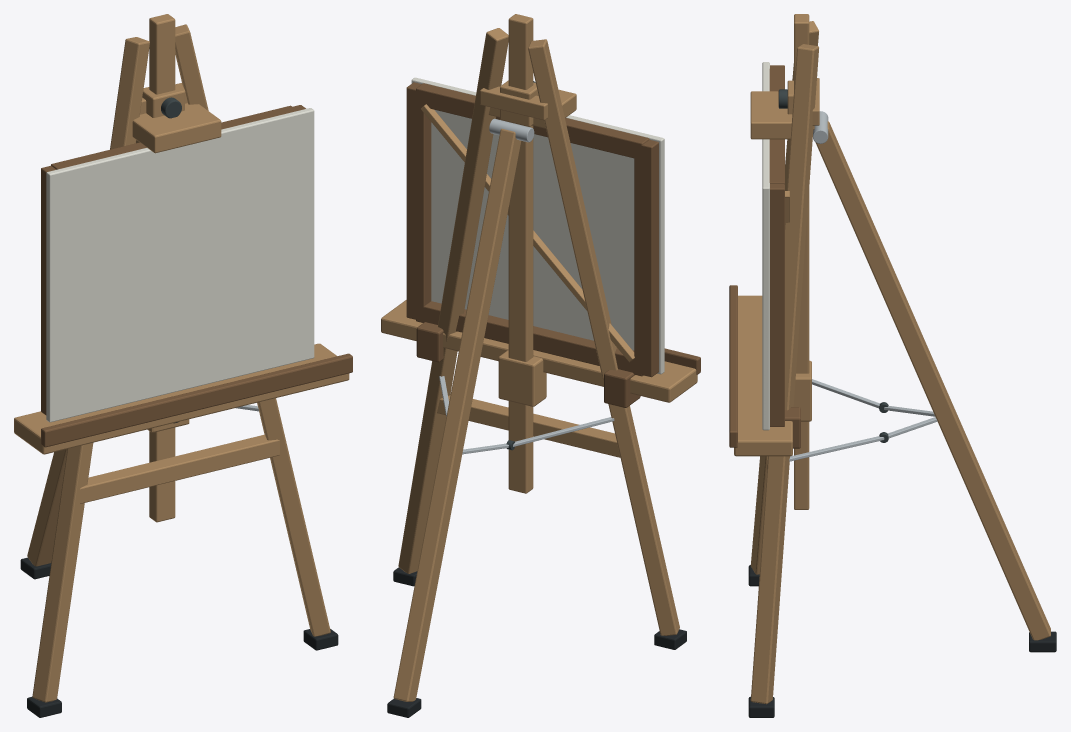
File: city-tripod-floor-easel.glb
3 views of the same model, side by side, from view 1: azimuth 30°, elevation 25°; view 2: azimuth 150°, elevation 25°; view 3: azimuth 270°, elevation 25° (orthographic). The views are drawn at different scales.
Parts seen in each view (by area): view 1: Assembly | Unmarked warm canvas or board, Assembly | Warm plain easel wood, Assembly | Dark wooden stiffeners, Assembly | Dark pads and cable rubber; view 2: Assembly | Warm plain easel wood, Assembly | Unmarked warm canvas or board, Assembly | Dark wooden stiffeners, Assembly | Satin workshop fittings, Assembly | Dark pads and cable rubber; view 3: Assembly | Warm plain easel wood, Assembly | Dark wooden stiffeners, Assembly | Unmarked warm canvas or board, Assembly | Satin workshop fittings, Assembly | Dark pads and cable rubber.
Part boxes in pixels (box(x1,y1,x2,y2)): Assembly | Unmarked warm canvas or board: box(46, 108, 314, 422); Assembly | Warm plain easel wood: box(14, 14, 349, 702); Assembly | Dark wooden stiffeners: box(41, 105, 352, 447); Assembly | Dark pads and cable rubber: box(20, 557, 338, 717); Assembly | Warm plain easel wood: box(381, 14, 697, 701); Assembly | Unmarked warm canvas or board: box(411, 77, 664, 374); Assembly | Dark wooden stiffeners: box(406, 82, 700, 407); Assembly | Satin workshop fittings: box(439, 118, 614, 454); Assembly | Dark pads and cable rubber: box(387, 567, 686, 717); Assembly | Warm plain easel wood: box(734, 14, 1050, 704); Assembly | Dark wooden stiffeners: box(729, 65, 800, 448); Assembly | Unmarked warm canvas or board: box(762, 62, 769, 430); Assembly | Satin workshop fittings: box(789, 111, 937, 461); Assembly | Dark pads and cable rubber: box(748, 565, 1056, 717).
Bounding box in the file's own units: 0.934 × 1.86 × 0.8775.
